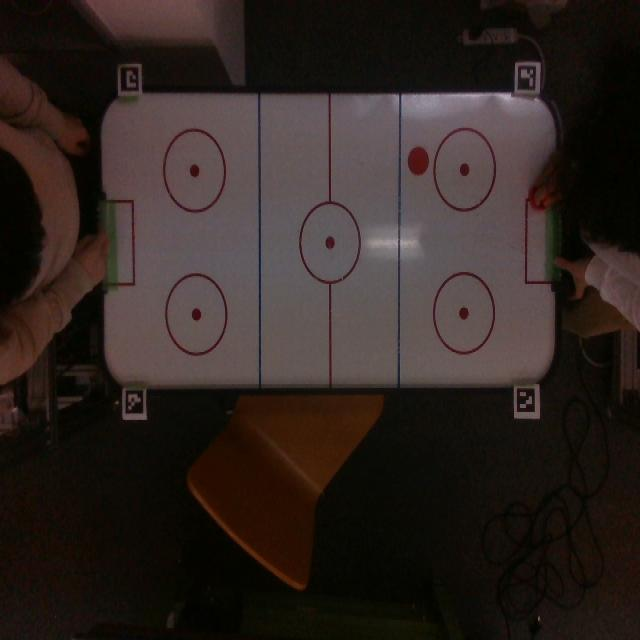puck: (408, 146, 430, 177)
